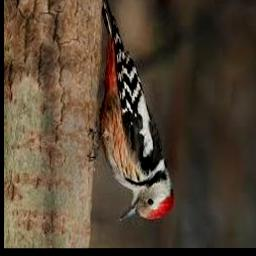Woodpecker: (88, 0, 174, 221)
